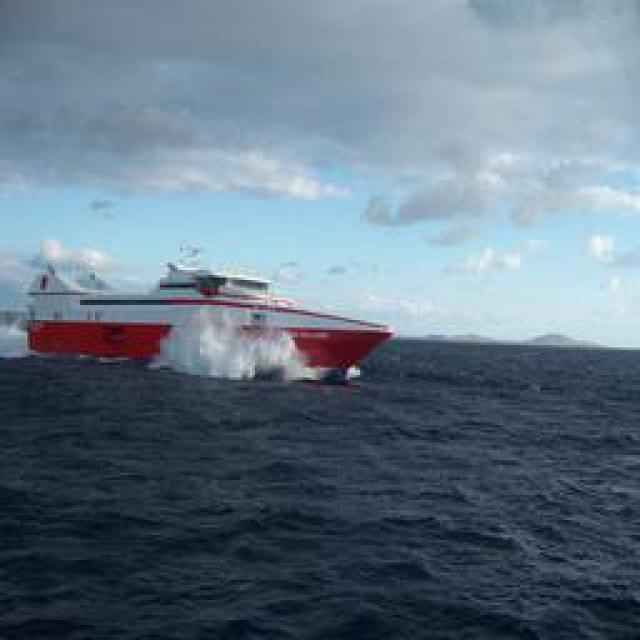Ship: (32, 252, 392, 382)
